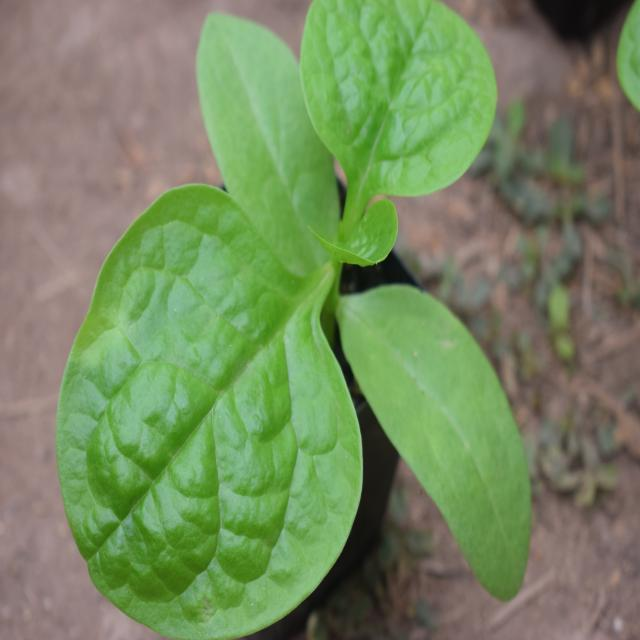Ceylon spinach: (68, 21, 531, 606)
